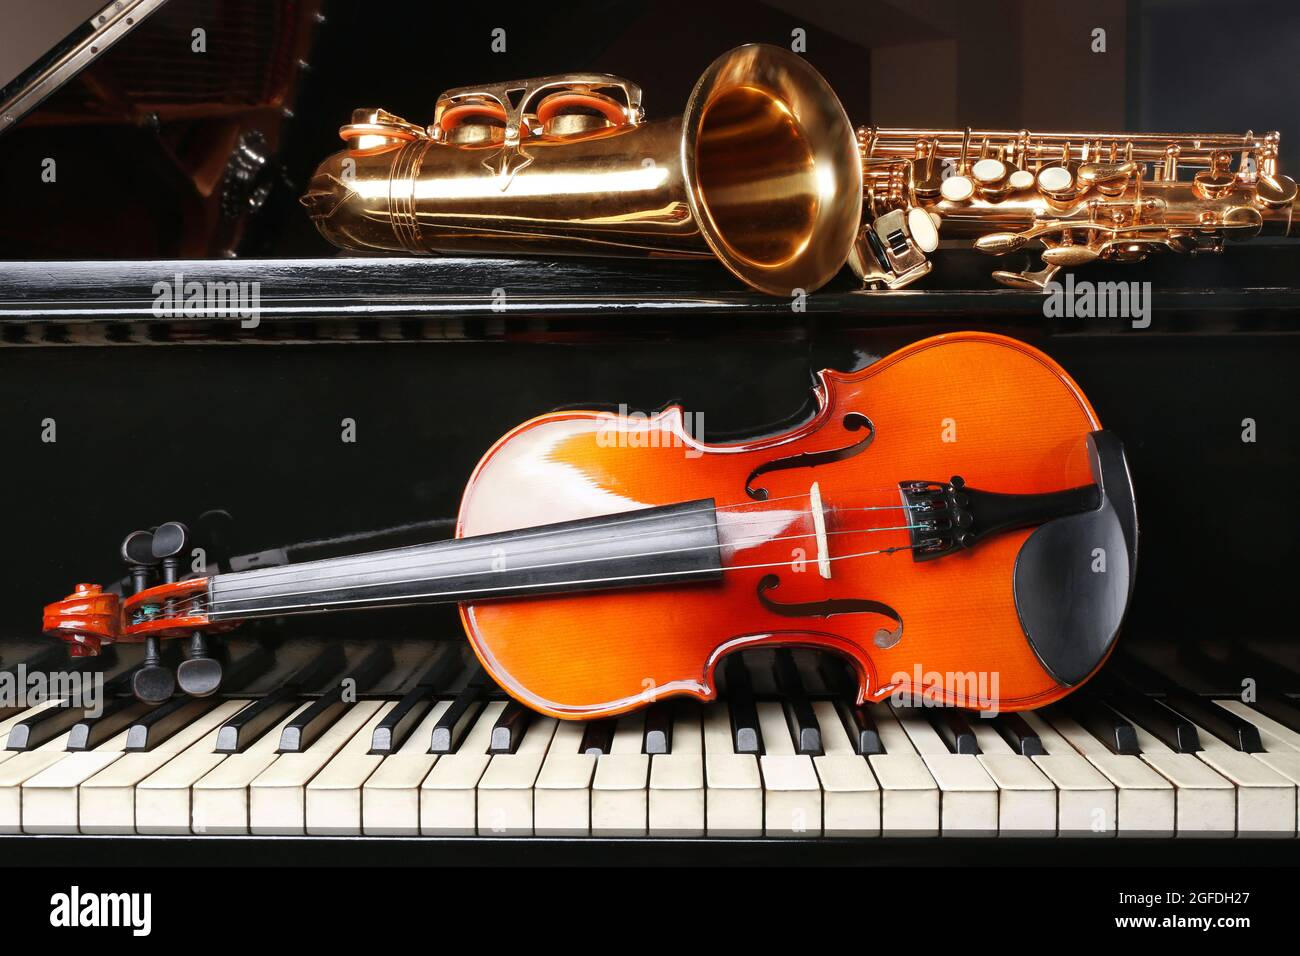Piano: (5, 536, 1296, 888)
Saxophone: (227, 44, 1300, 305)
Violin: (1, 310, 1240, 791)
